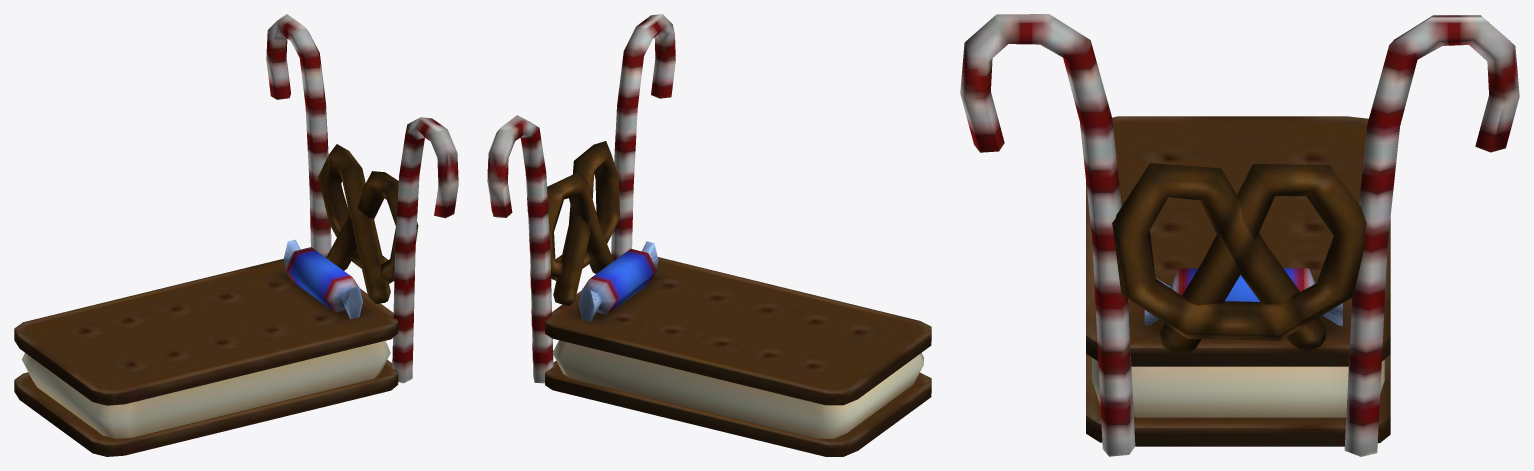
The model's file is icecreamBed.glb.
3 views of the same model, side by side, from view 1: azimuth 30°, elevation 25°; view 2: azimuth 150°, elevation 25°; view 3: azimuth 270°, elevation 25° (orthographic). The views are drawn at different scales.
Visible parts, largest first — view 1: sandwich1, icream, pretzel, sandwich3, candycane3, candycane2, pillow; view 2: sandwich1, icream, pretzel, sandwich3, candycane2, candycane3, pillow; view 3: sandwich1, pretzel, candycane3, candycane2, icream, sandwich3, pillow.
Part boxes in pixels (left/top/right/bottom): sandwich1: left=14, top=259, right=398, bottom=405; icream: left=22, top=341, right=390, bottom=438; pretzel: left=318, top=144, right=418, bottom=303; sandwich3: left=14, top=360, right=398, bottom=456; candycane3: left=392, top=117, right=458, bottom=383; candycane2: left=266, top=14, right=331, bottom=257; pillow: left=283, top=239, right=362, bottom=318; sandwich1: left=545, top=257, right=931, bottom=405; icream: left=552, top=340, right=923, bottom=438; pretzel: left=547, top=141, right=619, bottom=305; sandwich3: left=545, top=361, right=931, bottom=456; candycane2: left=487, top=115, right=553, bottom=383; candycane3: left=611, top=14, right=675, bottom=260; pillow: left=578, top=241, right=658, bottom=321; sandwich1: left=1086, top=116, right=1390, bottom=366; pretzel: left=1112, top=163, right=1366, bottom=355; candycane3: left=960, top=14, right=1135, bottom=456; candycane2: left=1344, top=15, right=1519, bottom=456; icream: left=1092, top=357, right=1384, bottom=417; sandwich3: left=1086, top=354, right=1390, bottom=446; pillow: left=1144, top=268, right=1342, bottom=325.
Bounding box in the file's own units: 9.75 × 7.94 × 9.26.
4 materials, 4 textured.
